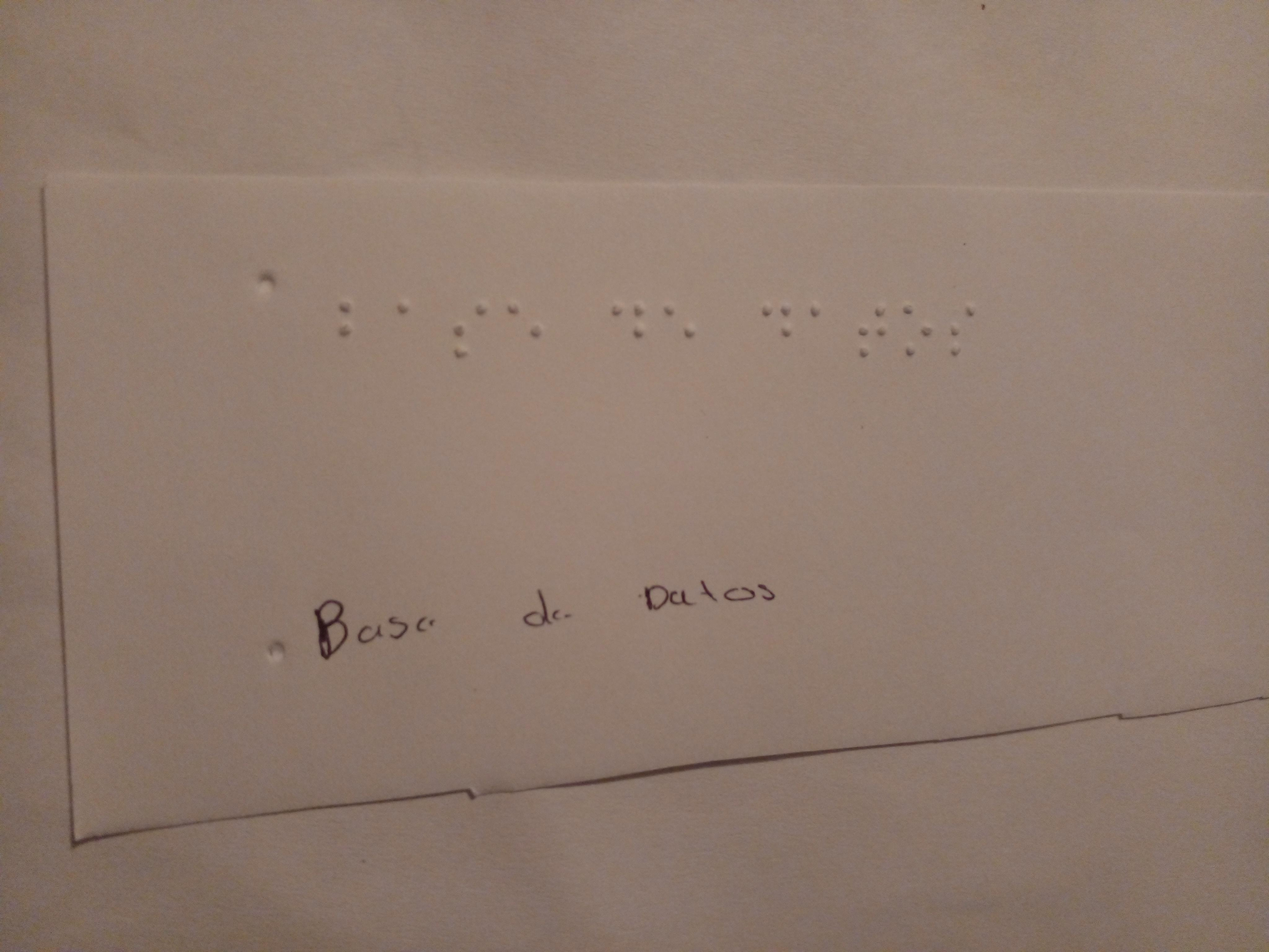a: (383, 280, 420, 356), (801, 287, 835, 342)
b: (319, 282, 369, 359)
d: (598, 276, 654, 370), (745, 282, 801, 359)
e: (497, 291, 565, 364), (665, 287, 703, 370)
o: (897, 299, 943, 364)
s: (443, 294, 496, 372), (940, 294, 985, 377)
t: (847, 294, 895, 363)
